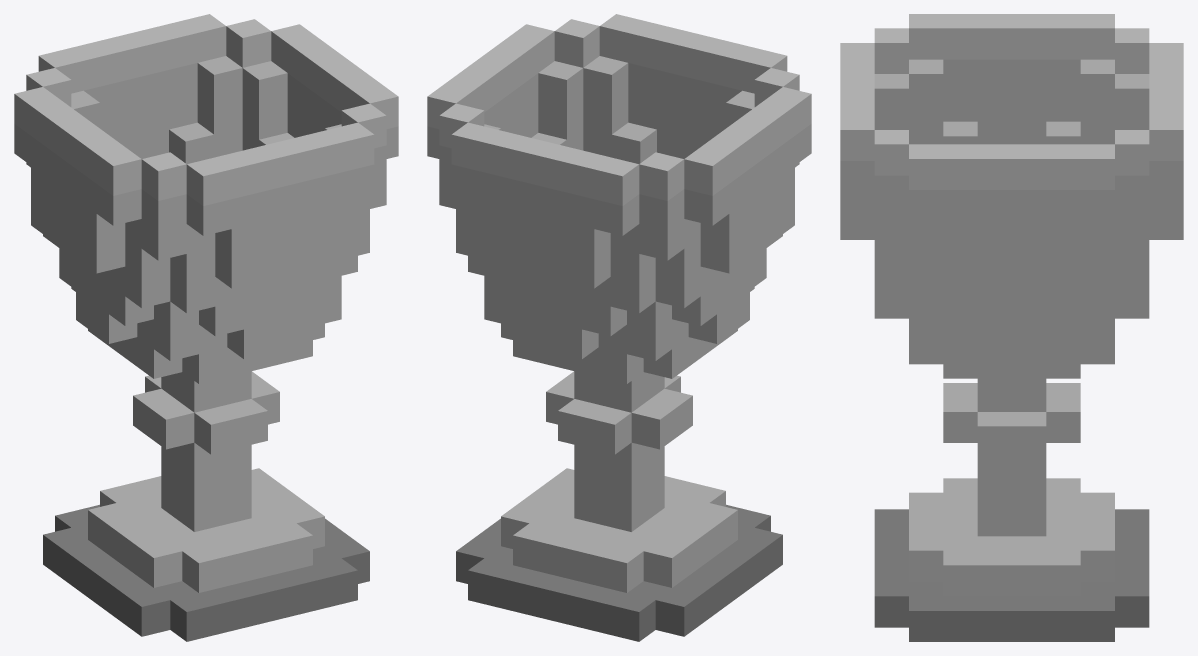
The model's file is item_ARTIFACT_CHALICE1.glb.
3 views of the same model, side by side, from view 1: azimuth 30°, elevation 25°; view 2: azimuth 150°, elevation 25°; view 3: azimuth 270°, elevation 25° (orthographic). The views are drawn at different scales.
Visible parts, largest first — view 1: item_ARTIFACT_CHALICE1; view 2: item_ARTIFACT_CHALICE1; view 3: item_ARTIFACT_CHALICE1.
Boxes of the visible parts, box(x1,y1,x2,y2) form: item_ARTIFACT_CHALICE1: box(14, 14, 398, 641); item_ARTIFACT_CHALICE1: box(427, 14, 811, 641); item_ARTIFACT_CHALICE1: box(840, 14, 1183, 641).
Bounding box in the file's own units: 0.2273 × 0.3636 × 0.2273.
1 material, 1 textured.
